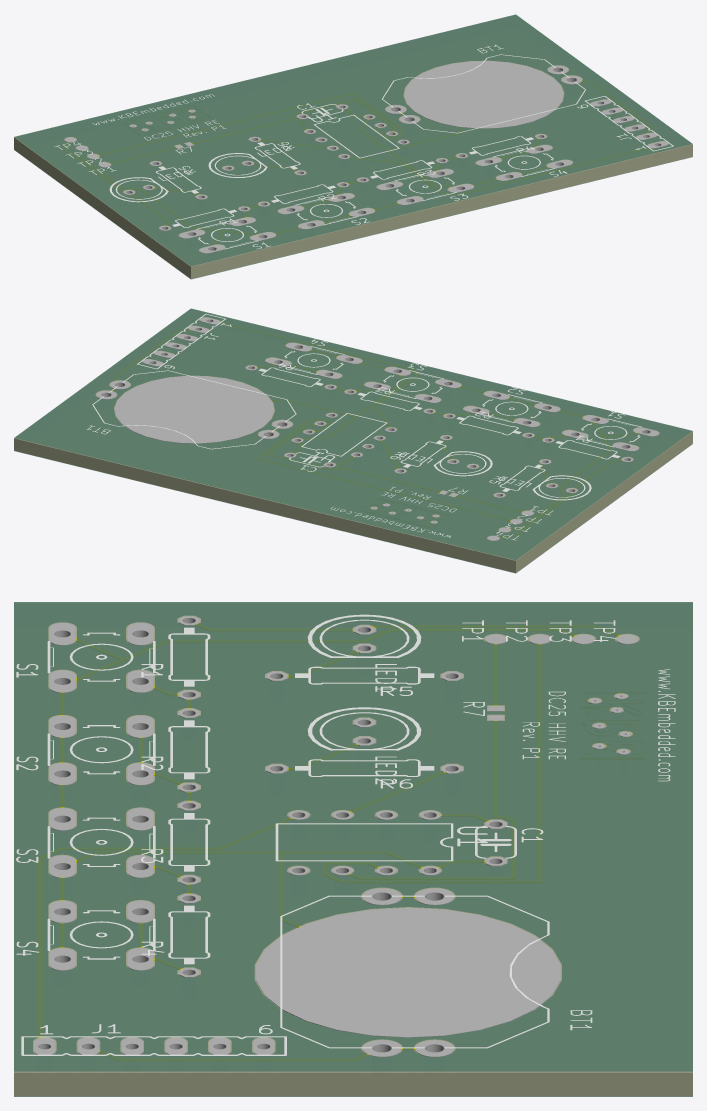
Rendered from hardware-hacking-village-dc25-re-challenge-badge.glb.
3 renders of one model, top to bottom at view 1: azimuth 30°, elevation 25°; view 2: azimuth 150°, elevation 25°; view 3: azimuth 270°, elevation 25°, orthographic. The views are drawn at different scales.
Visible parts, largest first — view 1: =>[0:1:1:5], =>[0:1:1:7], =>[0:1:1:2], =>[0:1:1:4]; view 2: =>[0:1:1:5], =>[0:1:1:7], =>[0:1:1:2], =>[0:1:1:4]; view 3: =>[0:1:1:5], =>[0:1:1:7], =>[0:1:1:2], =>[0:1:1:4].
Boxes of the visible parts, x1,y1,x2,y2 form: =>[0:1:1:5]: (14, 14, 692, 279); =>[0:1:1:7]: (14, 15, 692, 278); =>[0:1:1:2]: (64, 61, 667, 253); =>[0:1:1:4]: (54, 44, 673, 249); =>[0:1:1:5]: (14, 308, 692, 573); =>[0:1:1:7]: (14, 309, 692, 572); =>[0:1:1:2]: (96, 317, 658, 540); =>[0:1:1:4]: (87, 314, 641, 540); =>[0:1:1:5]: (14, 602, 692, 1096); =>[0:1:1:7]: (14, 603, 692, 1096); =>[0:1:1:2]: (34, 616, 638, 1060); =>[0:1:1:4]: (16, 614, 675, 1055).
Size of the model in its own units: 0.0644 by 0.00163 by 0.0394.
Materials: 4 (4 with a texture image).
